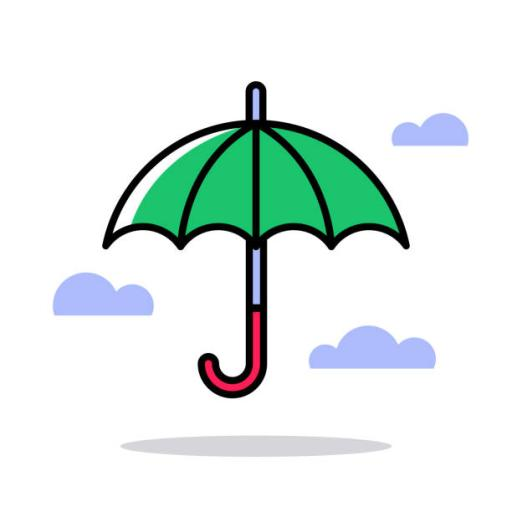guarda_chuva: (101, 80, 410, 398)
